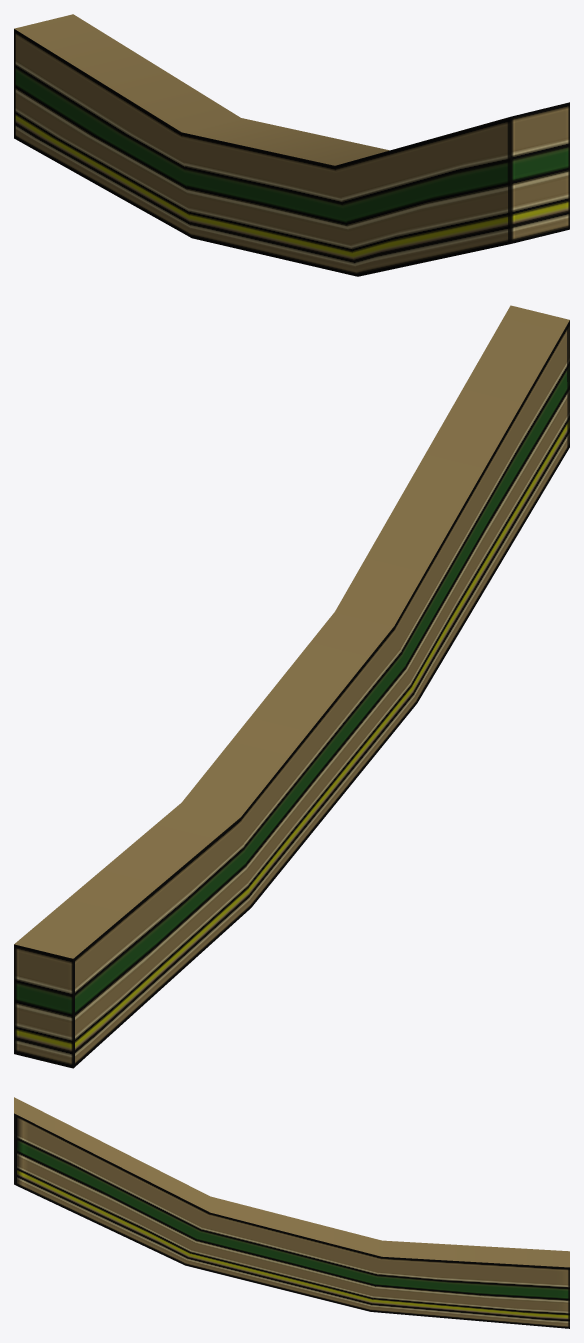
File: egypt_ramp_border.gltf
3 renders of one model, top to bottom at view 1: azimuth 30°, elevation 25°; view 2: azimuth 150°, elevation 25°; view 3: azimuth 270°, elevation 25°, orthographic. The views are drawn at different scales.
Parts seen in each view (by area): view 1: egypt_ramp_border_glb; view 2: egypt_ramp_border_glb; view 3: egypt_ramp_border_glb.
Part boxes in pixels (x1=…): egypt_ramp_border_glb: x1=14, y1=14, x2=569, y2=276; egypt_ramp_border_glb: x1=14, y1=305, x2=569, y2=1068; egypt_ramp_border_glb: x1=14, y1=1097, x2=569, y2=1328.
Size of what is drawn, in the model's own units: 0.2771 by 1.72 by 4.02.
Materials: 1 (1 with a texture image).
